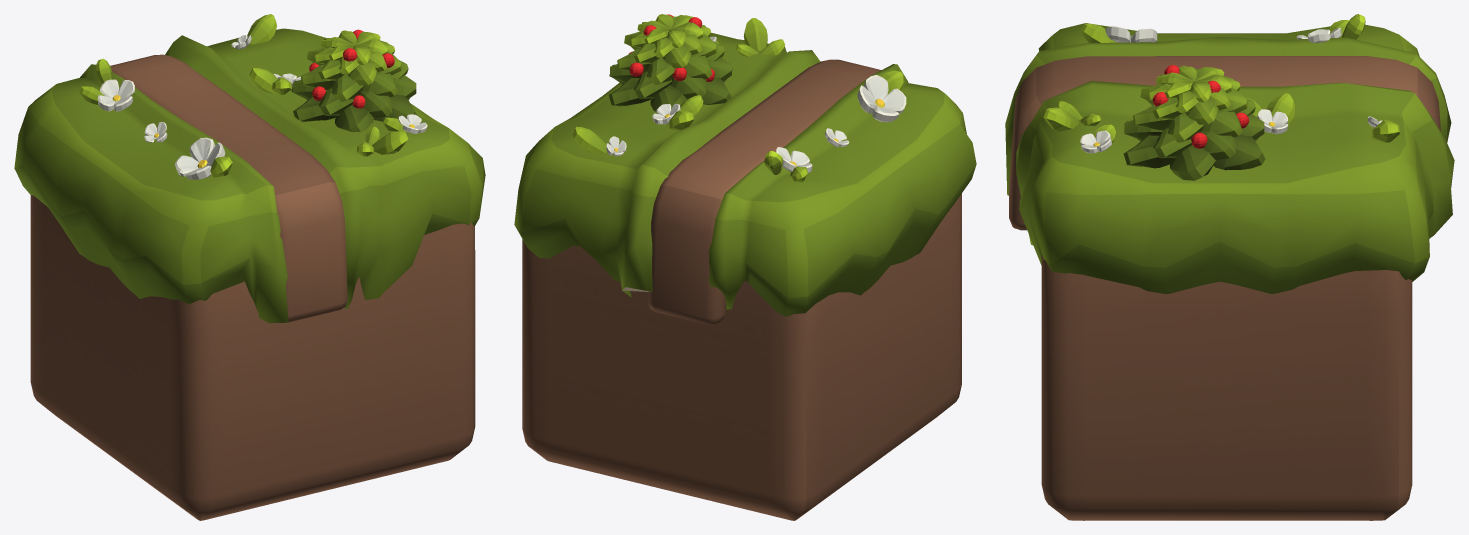
File: Spring5.fbx
3 views of the same model, side by side, from view 1: azimuth 30°, elevation 25°; view 2: azimuth 150°, elevation 25°; view 3: azimuth 270°, elevation 25° (orthographic). The views are drawn at different scales.
Visible parts, largest first — view 1: Spring5, Spring_Cube5.001, Spring5.001, Spring_Cube_05.006, Spring_Cube_05.005; view 2: Spring5, Spring_Cube5.001, Spring5.001, Spring_Cube_05.006, Spring_Cube_05.005; view 3: Spring5, Spring_Cube5.001, Spring5.001, Spring_Cube_05.006, Spring_Cube_05.005.
Part boxes in pixels (bbox=[...]): Spring5: bbox=[30, 195, 475, 520]; Spring_Cube5.001: bbox=[14, 28, 485, 323]; Spring5.001: bbox=[110, 54, 347, 322]; Spring_Cube_05.006: bbox=[291, 29, 416, 132]; Spring_Cube_05.005: bbox=[79, 14, 427, 179]; Spring5: bbox=[522, 193, 961, 520]; Spring_Cube5.001: bbox=[514, 33, 976, 316]; Spring5.001: bbox=[648, 59, 881, 324]; Spring_Cube_05.006: bbox=[608, 14, 732, 111]; Spring_Cube_05.005: bbox=[572, 18, 906, 181]; Spring5: bbox=[1041, 254, 1412, 520]; Spring_Cube5.001: bbox=[1005, 23, 1454, 293]; Spring5.001: bbox=[1009, 56, 1440, 230]; Spring_Cube_05.006: bbox=[1123, 65, 1265, 180]; Spring_Cube_05.005: bbox=[1042, 14, 1400, 153].
Size of the model in its own units: 115 by 128 by 121.
